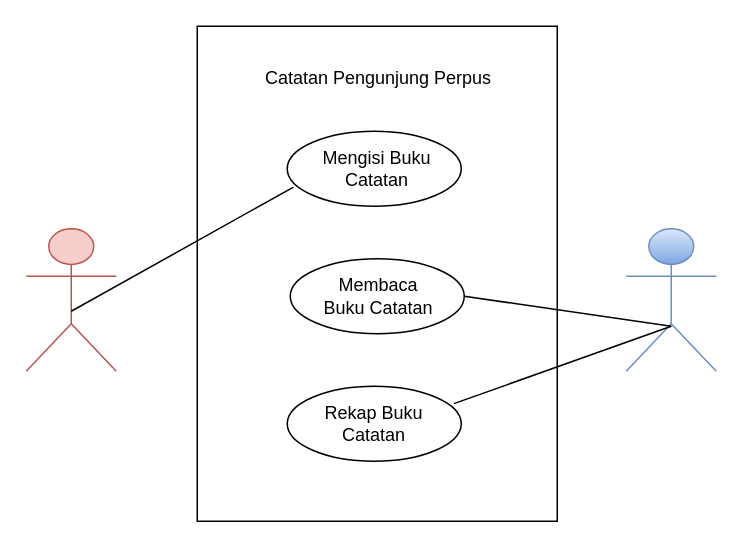
Some shapes in this 746 by 548 pixel diagram are drawn without their labels. Here are the shapes that lost their labels. From the top down, the centre of each, then its label:
(x=70, y=299): Anggota
(x=670, y=299): Pustakawan
